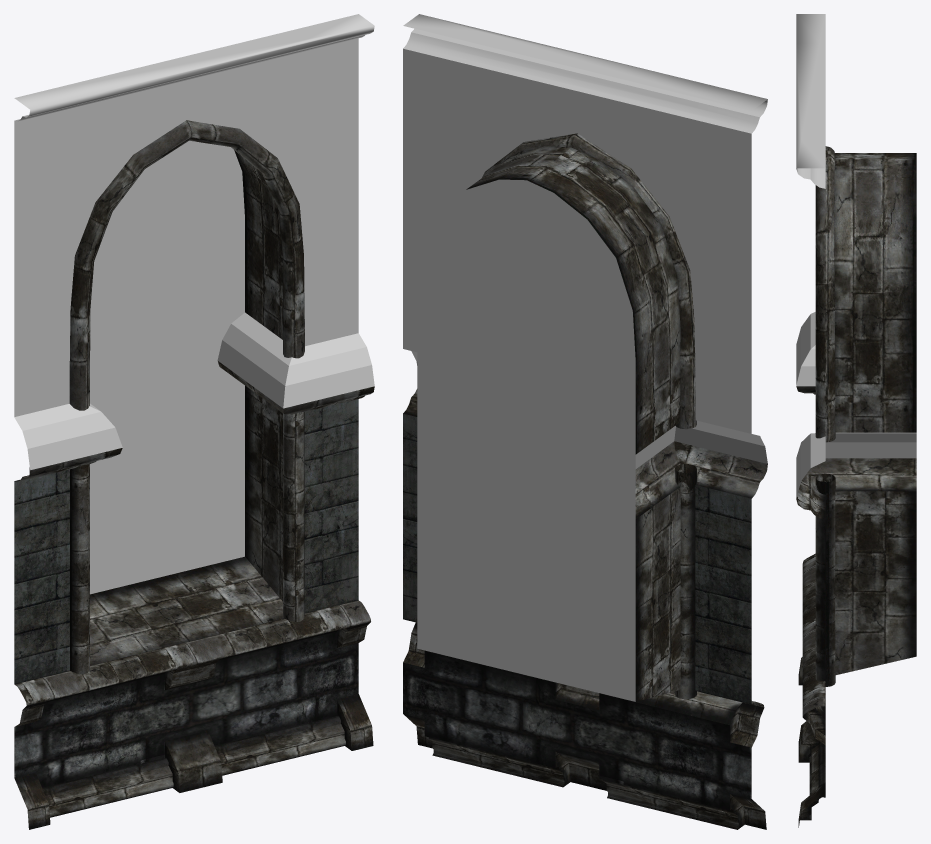
File: window_large_yellow_alt.dae
The picture shows the model from 3 angles, left to right: view 1: azimuth 30°, elevation 25°; view 2: azimuth 150°, elevation 25°; view 3: azimuth 270°, elevation 25°; orthographic projection. The views are drawn at different scales.
Visible parts, largest first — view 1: polySurface145, polySurface134, polySurface158, polySurface159, polySurface140, polySurface141, polySurface139, polySurface143, polySurface142, polySurface149; view 2: polySurface134, polySurface145, polySurface158, polySurface159, polySurface139, polySurface140, polySurface141, polySurface142, polySurface147; view 3: polySurface139, polySurface140, polySurface145, polySurface158, polySurface141, polySurface143, polySurface150, polySurface149, polySurface148.
Boxes of the visible parts, <box> form: polySurface145: <box>14,14,374,470</box>; polySurface134: <box>90,140,244,594</box>; polySurface158: <box>14,386,374,829</box>; polySurface159: <box>14,631,358,787</box>; polySurface140: <box>29,385,284,665</box>; polySurface141: <box>69,120,304,410</box>; polySurface139: <box>234,150,282,339</box>; polySurface143: <box>283,412,304,621</box>; polySurface142: <box>70,464,89,674</box>; polySurface149: <box>217,312,291,408</box>; polySurface134: <box>417,179,635,701</box>; polySurface145: <box>403,14,767,463</box>; polySurface158: <box>403,389,767,829</box>; polySurface159: <box>403,651,751,810</box>; polySurface139: <box>466,146,680,454</box>; polySurface140: <box>635,487,680,701</box>; polySurface141: <box>482,133,696,429</box>; polySurface142: <box>675,464,696,699</box>; polySurface147: <box>635,441,680,518</box>; polySurface139: <box>833,153,916,432</box>; polySurface140: <box>835,491,916,675</box>; polySurface145: <box>796,14,825,497</box>; polySurface158: <box>796,473,825,827</box>; polySurface141: <box>815,146,835,442</box>; polySurface143: <box>815,473,835,686</box>; polySurface150: <box>807,458,916,491</box>; polySurface149: <box>825,432,916,458</box>; polySurface148: <box>796,345,815,386</box>.
Size of the model in its own units: 4 by 8 by 1.32.
